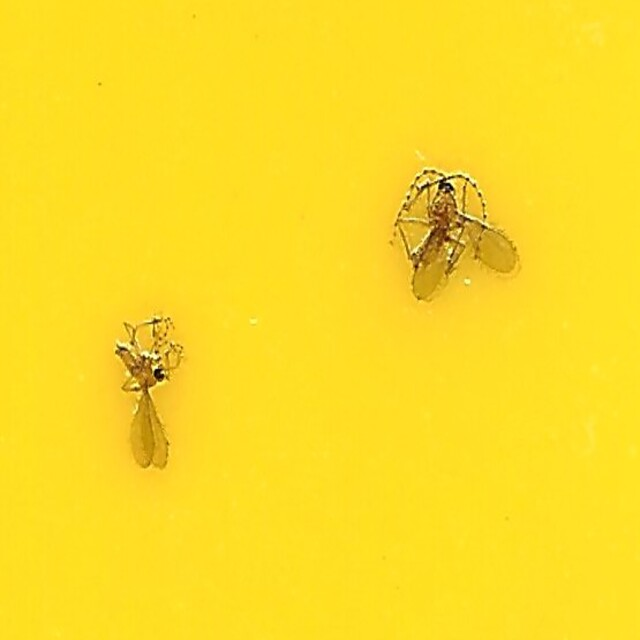Nematocera: (392, 160, 525, 319), (115, 319, 186, 480)
